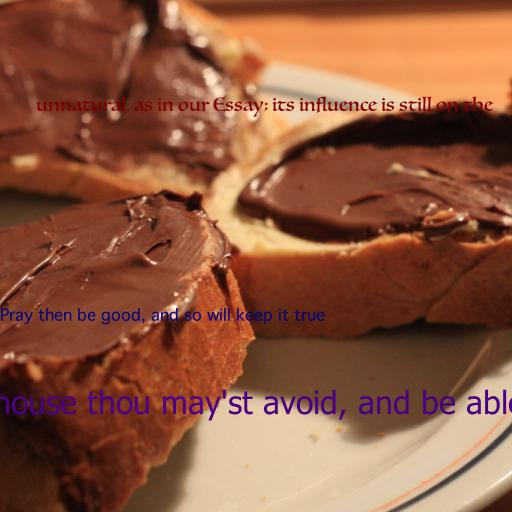Geneva: (0, 308, 325, 325)
Luminari: (35, 95, 493, 117)
Tahoma: (0, 389, 512, 421)
